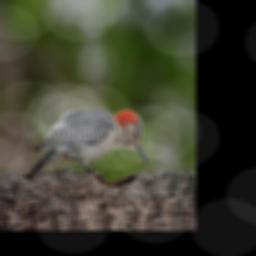Woodpecker: (15, 99, 152, 184)
